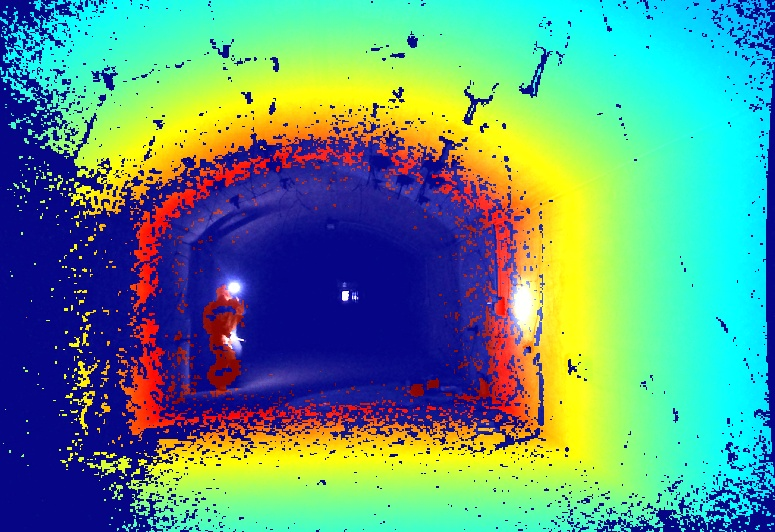person: (201, 285, 245, 396)
